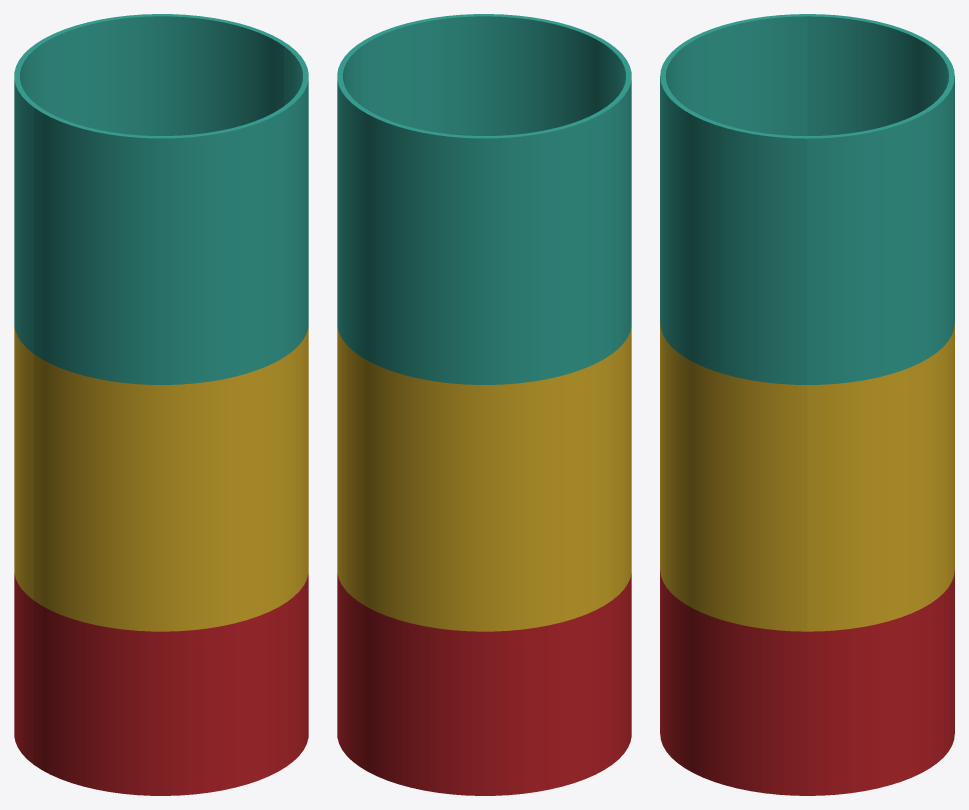
File: dry_scrubber_pressure.glb
The picture shows the model from 3 angles, left to right: view 1: azimuth 30°, elevation 25°; view 2: azimuth 150°, elevation 25°; view 3: azimuth 270°, elevation 25°; orthographic projection.
Parts seen in each view (by area): view 1: pressure__front, pressure__back; view 2: pressure__back, pressure__front; view 3: pressure__back, pressure__front.
Boxes of the visible parts, x1,y1,x2,y2 form: pressure__front: [34, 45, 308, 795]; pressure__back: [14, 14, 288, 764]; pressure__back: [337, 45, 611, 795]; pressure__front: [357, 14, 631, 764]; pressure__back: [807, 14, 954, 795]; pressure__front: [660, 14, 807, 795].
Size of the model in its own units: 1.3 by 3.2 by 1.3.
